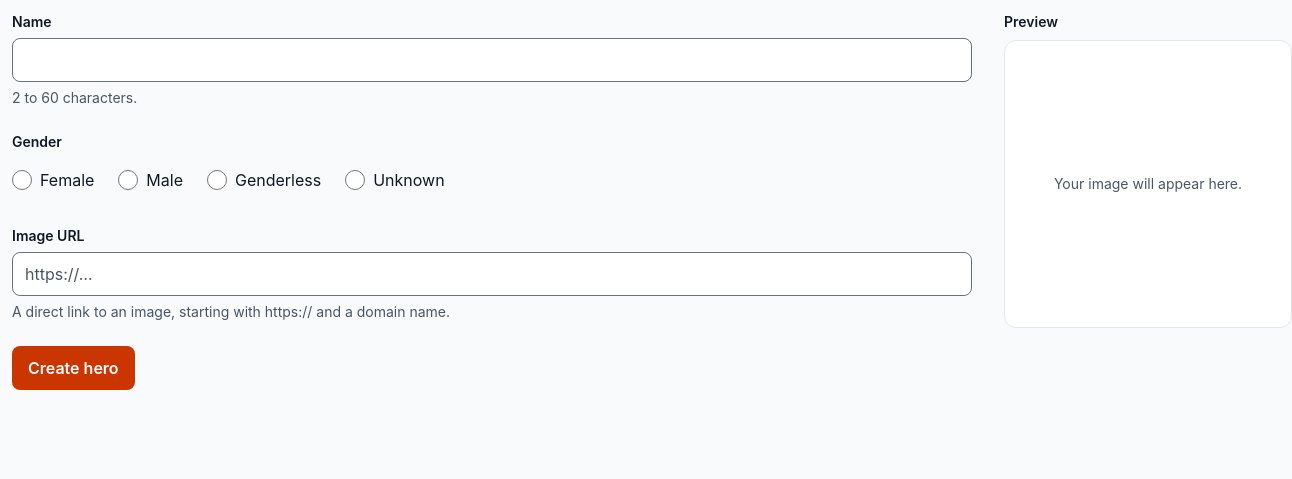
CreateHeroForm › clears the name error as the visitor fixes it, without leaving the field
The image size is (1292, 479).
Type "R" into the field labelled "Name" at (492, 60), box 12,38 -> 972,82
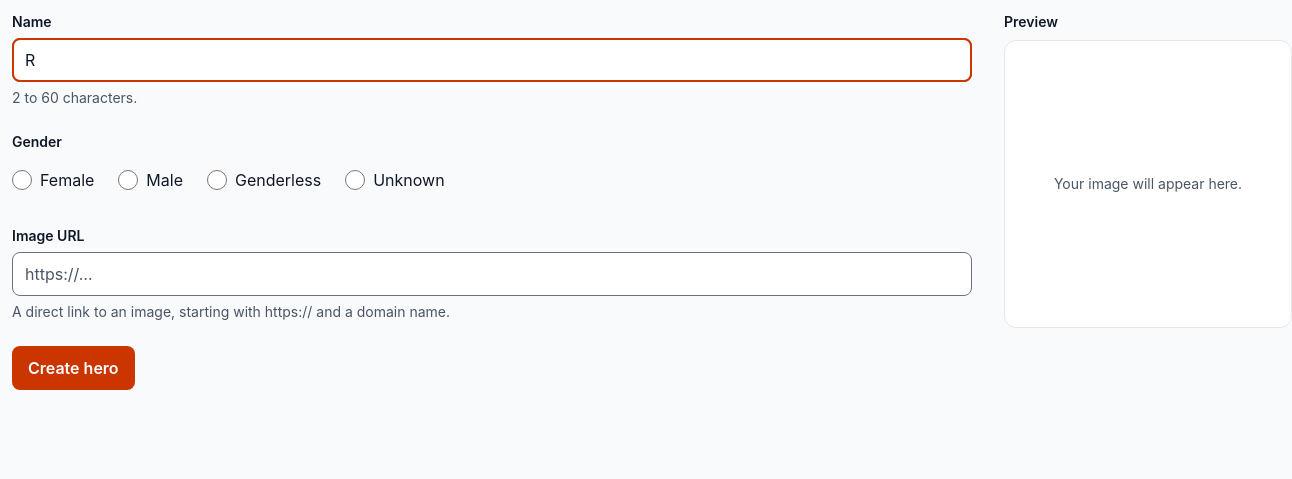
Click the button "Create hero" at (73, 368), box 12,346 -> 135,390
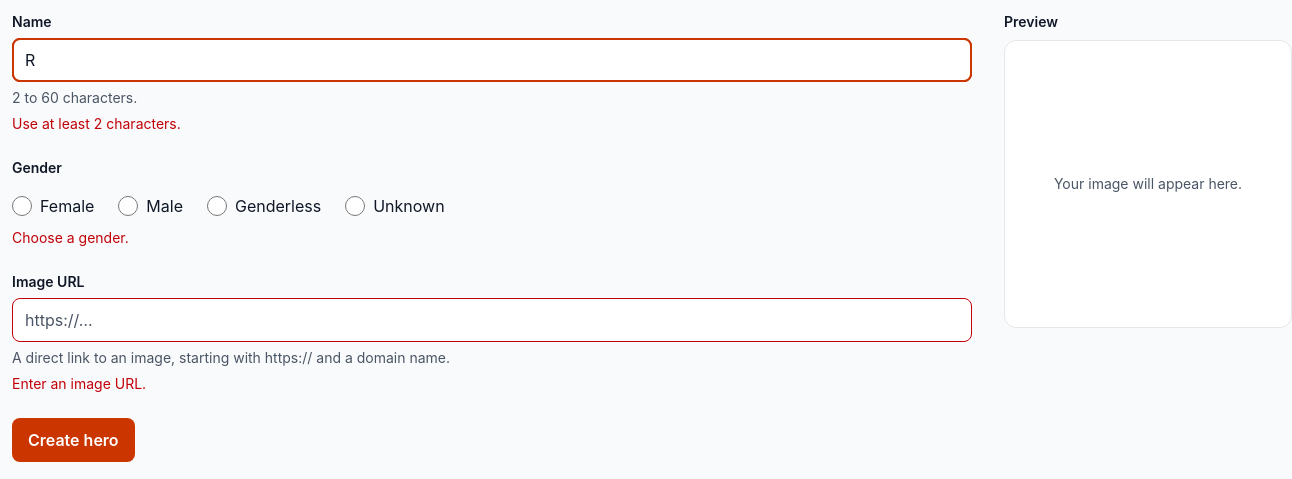
Type "ick" into the field labelled "Name" at (492, 60), box 12,38 -> 972,82
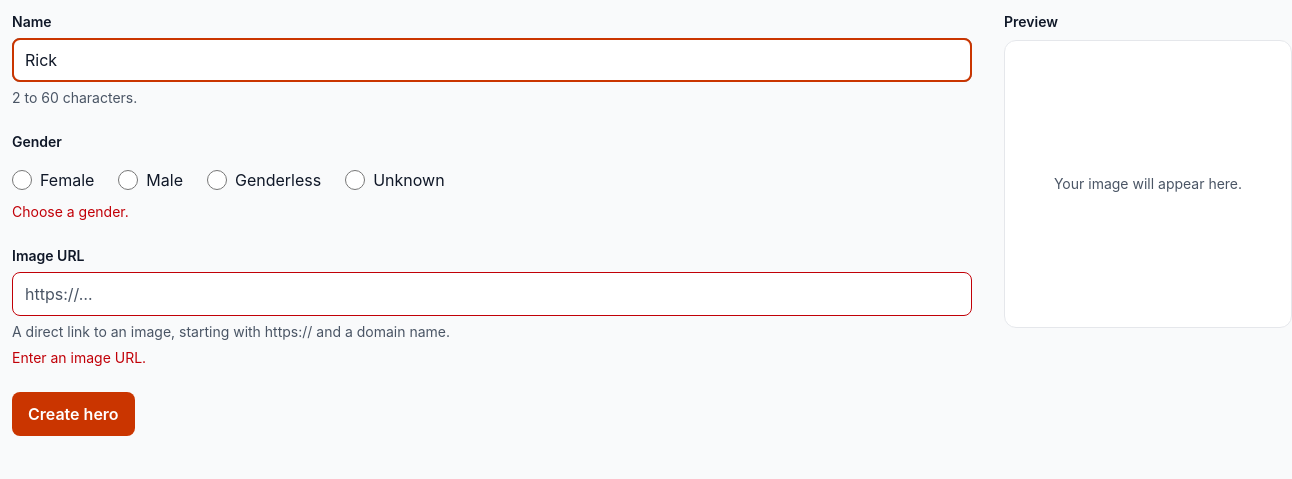
Expected: the text "Use at least 2 characters." is gone
